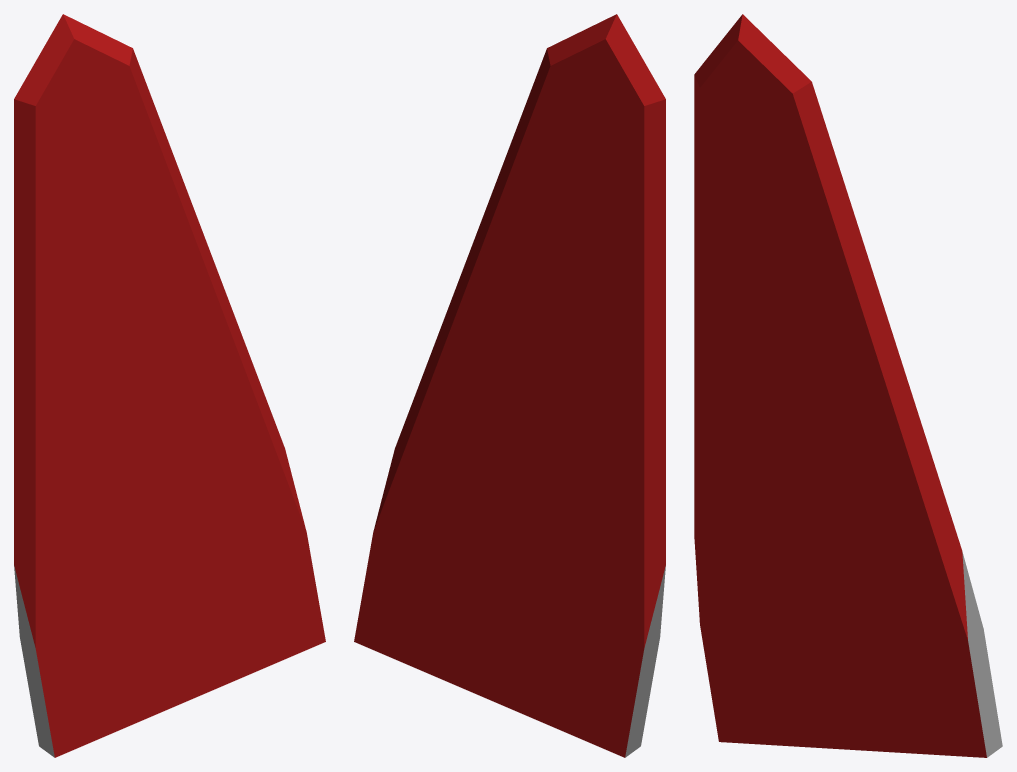
File: mock_cutting_blade.dae
3 views of the same model, side by side, from view 1: azimuth 30°, elevation 25°; view 2: azimuth 150°, elevation 25°; view 3: azimuth 330°, elevation 25° (orthographic).
Parts seen in each view (by area): view 1: ID2; view 2: ID2; view 3: ID2.
Boxes of the visible parts, x1,y1,x2,y2 form: ID2: [14, 14, 325, 757]; ID2: [354, 14, 665, 757]; ID2: [694, 14, 1002, 757].
Bounding box in the file's own units: 0.011 × 0.001 × 0.0255.
